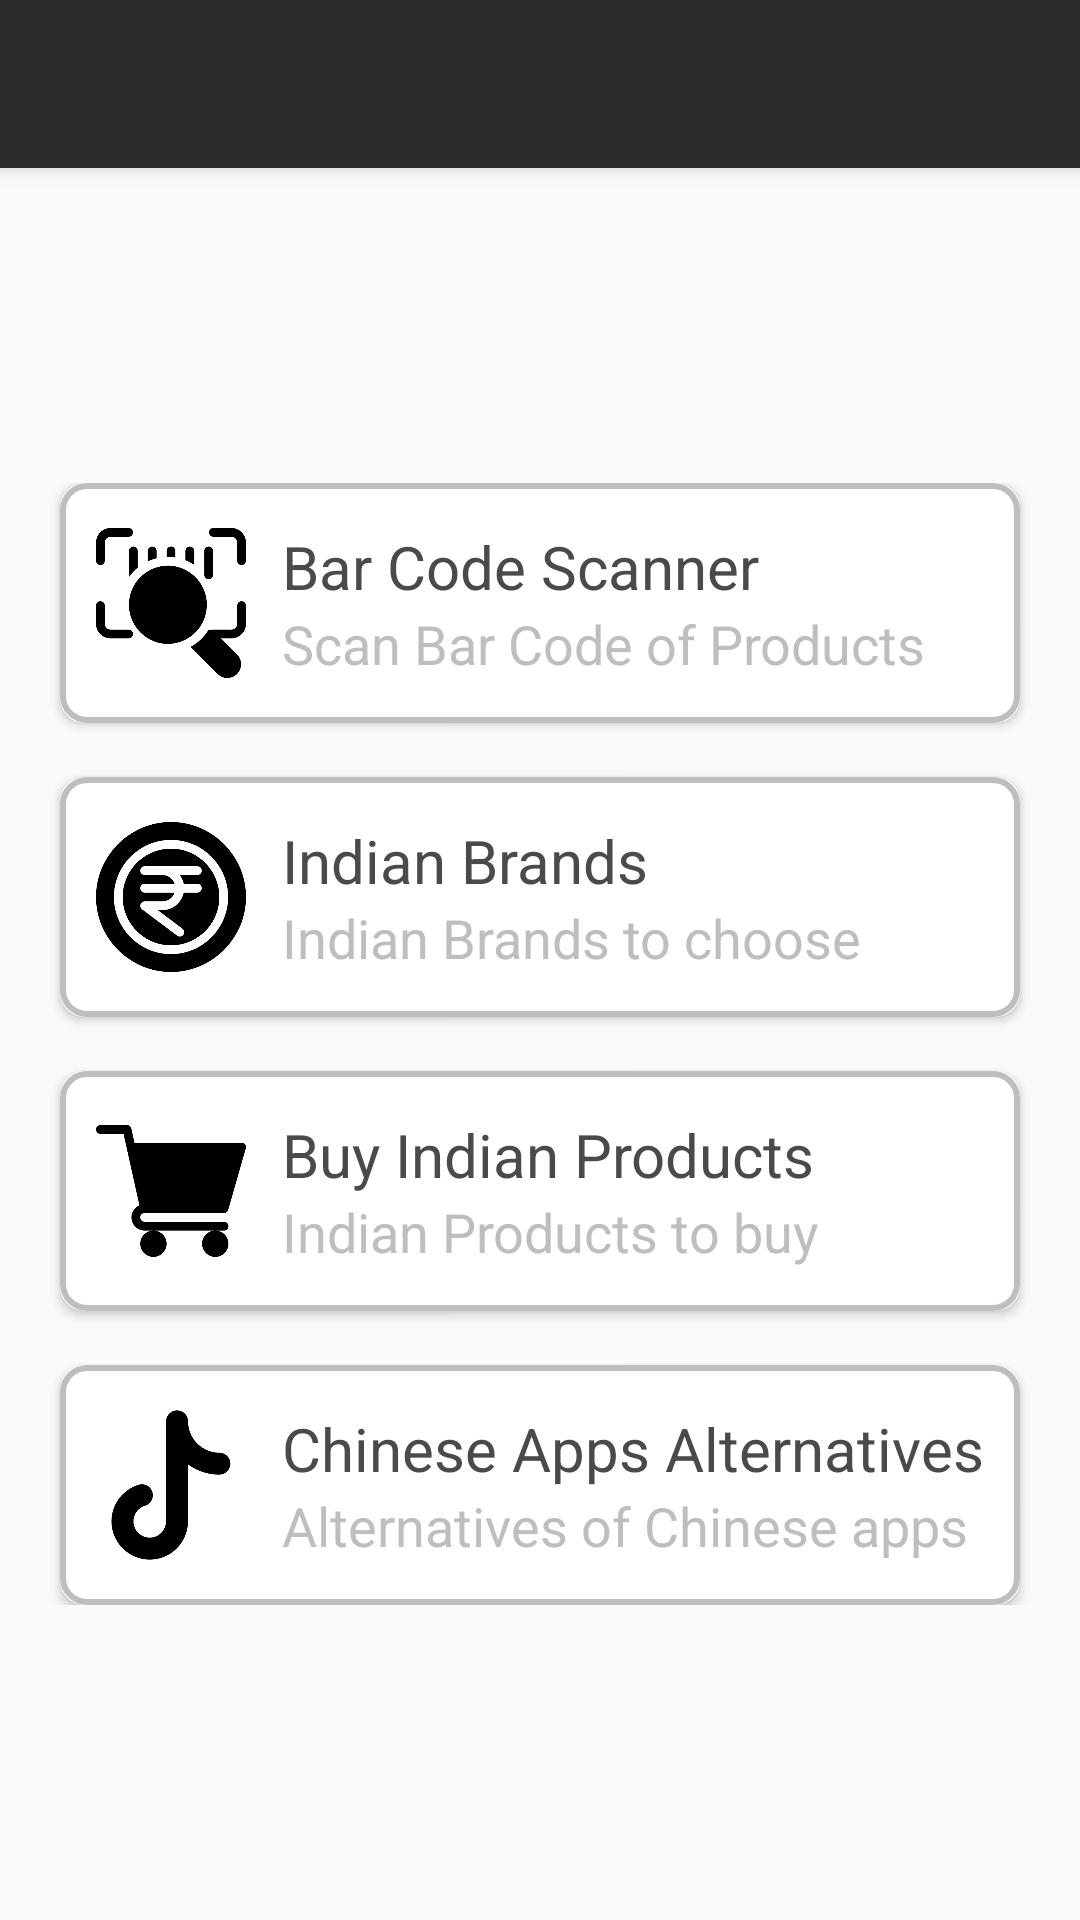

Icon click points for this 1080x1920 phone screenshot, format point (x, y):
barsearch: point (171, 603)
rupee: point (171, 897)
shopping: point (171, 1191)
